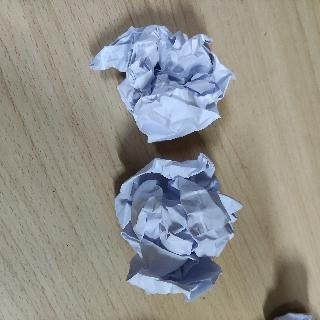8/可回收垃圾/纸: (112, 153, 243, 302), (88, 25, 235, 143)
